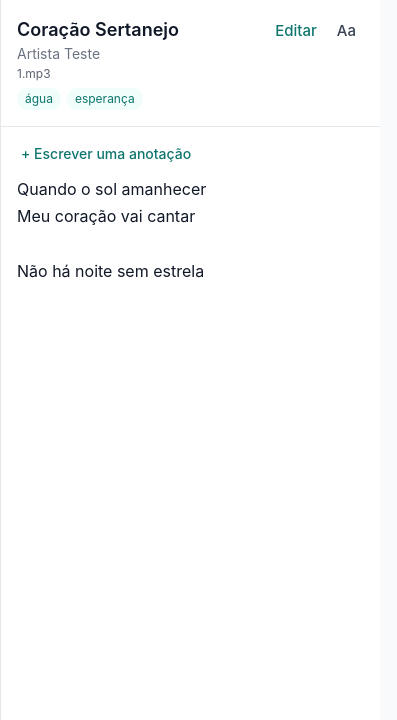
Test: LyricsPanel — modo de edição (V4 F10) › BUG v0.4: blur no input de tema adiciona o chip e limpa o input
The width and height of the screenshot is (397, 720).
Expected: the text with test id "lyrics-body" is shown, [17, 179, 206, 281]
Click the button "Editar".
click(296, 31)  # box [267, 16, 325, 46]
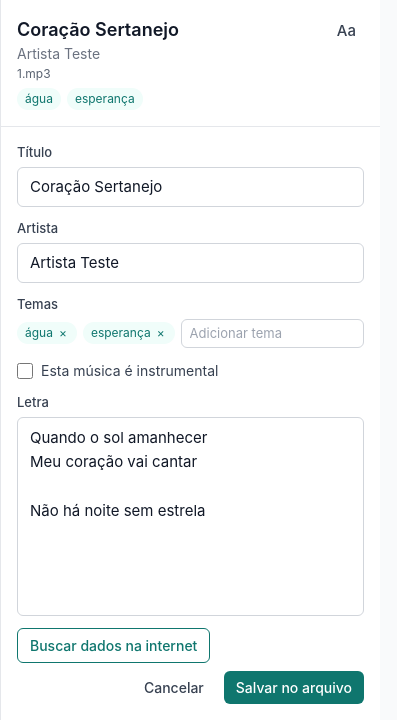
Type "fé" into the field with placeholder "Adicionar tema".
click(272, 333); type("fé")  # box [181, 318, 364, 348]
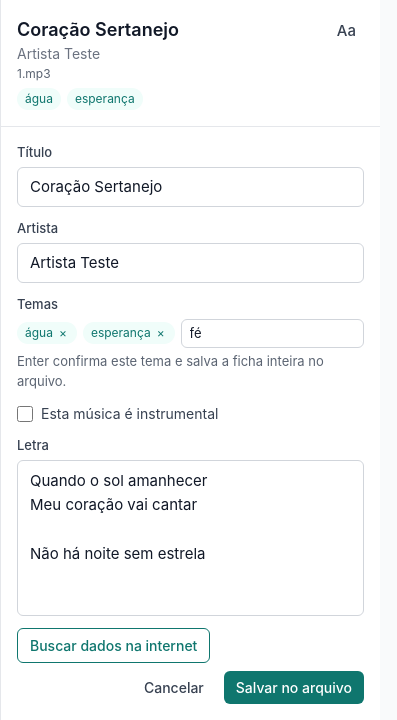
Leave the field with placeholder "Adicionar tema", box [181, 318, 364, 348]
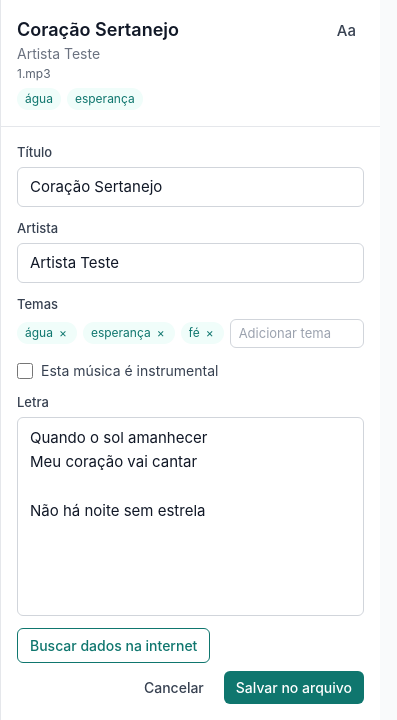
Expected: the button named "Remover tema fé" is shown, [204, 324, 216, 342]
Expected: the field with placeholder "Adicionar tema" is empty, [230, 318, 364, 348]
